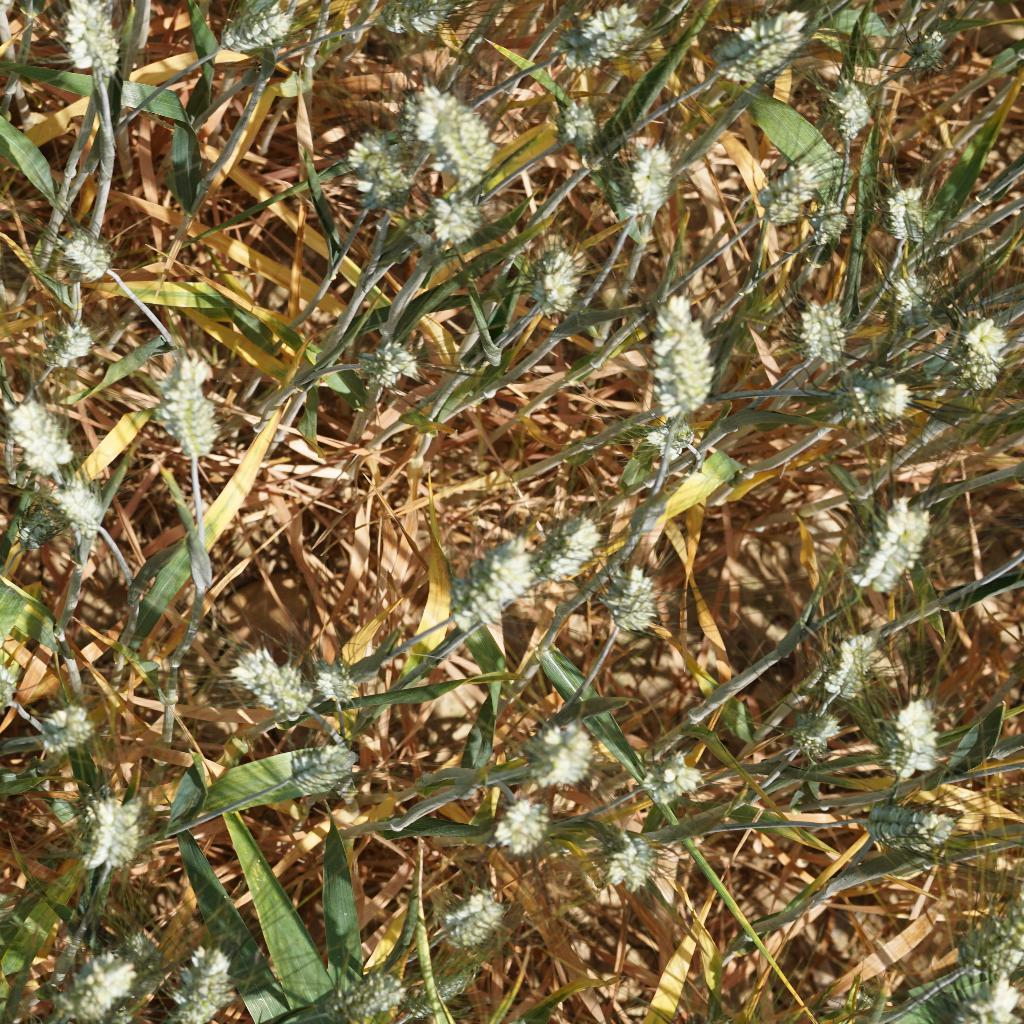0-0: (841, 489, 950, 601), (645, 294, 725, 421), (154, 357, 243, 471), (537, 0, 654, 79), (419, 85, 505, 180), (67, 780, 150, 878), (608, 131, 684, 235), (437, 541, 524, 630), (220, 642, 317, 716), (721, 2, 806, 86), (0, 382, 77, 474), (22, 691, 110, 771), (57, 0, 135, 89), (589, 819, 671, 901), (808, 66, 888, 146), (871, 784, 964, 852), (593, 570, 677, 643), (515, 713, 591, 792), (44, 953, 128, 1024), (878, 180, 963, 250), (47, 209, 119, 290), (23, 478, 109, 544), (950, 305, 1012, 395), (747, 141, 813, 224), (822, 623, 900, 692), (277, 727, 361, 791), (322, 964, 414, 1021), (339, 118, 402, 201), (482, 796, 560, 862), (519, 522, 593, 591), (634, 747, 709, 815), (877, 254, 941, 332), (179, 941, 239, 1024), (878, 698, 942, 774), (441, 874, 507, 944), (223, 0, 296, 62), (530, 246, 590, 321), (955, 958, 1023, 1024), (546, 89, 620, 149), (800, 298, 862, 369), (26, 318, 100, 376), (306, 651, 372, 713), (422, 185, 488, 247), (351, 339, 419, 399), (795, 710, 852, 776), (972, 911, 1024, 983), (378, 0, 462, 44), (117, 933, 163, 1006), (645, 406, 703, 462), (415, 965, 482, 1013), (863, 367, 919, 423), (803, 191, 856, 250), (900, 25, 954, 79)
